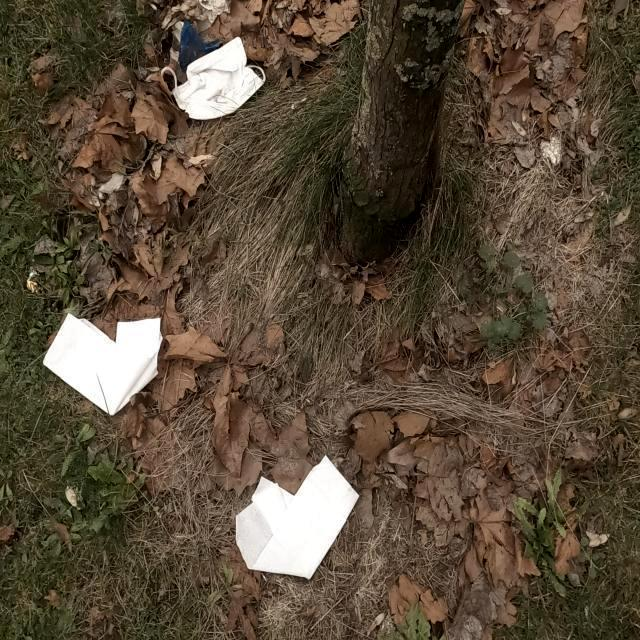Mask: (159, 35, 267, 121)
Paper: (234, 452, 360, 580), (42, 312, 164, 416)
